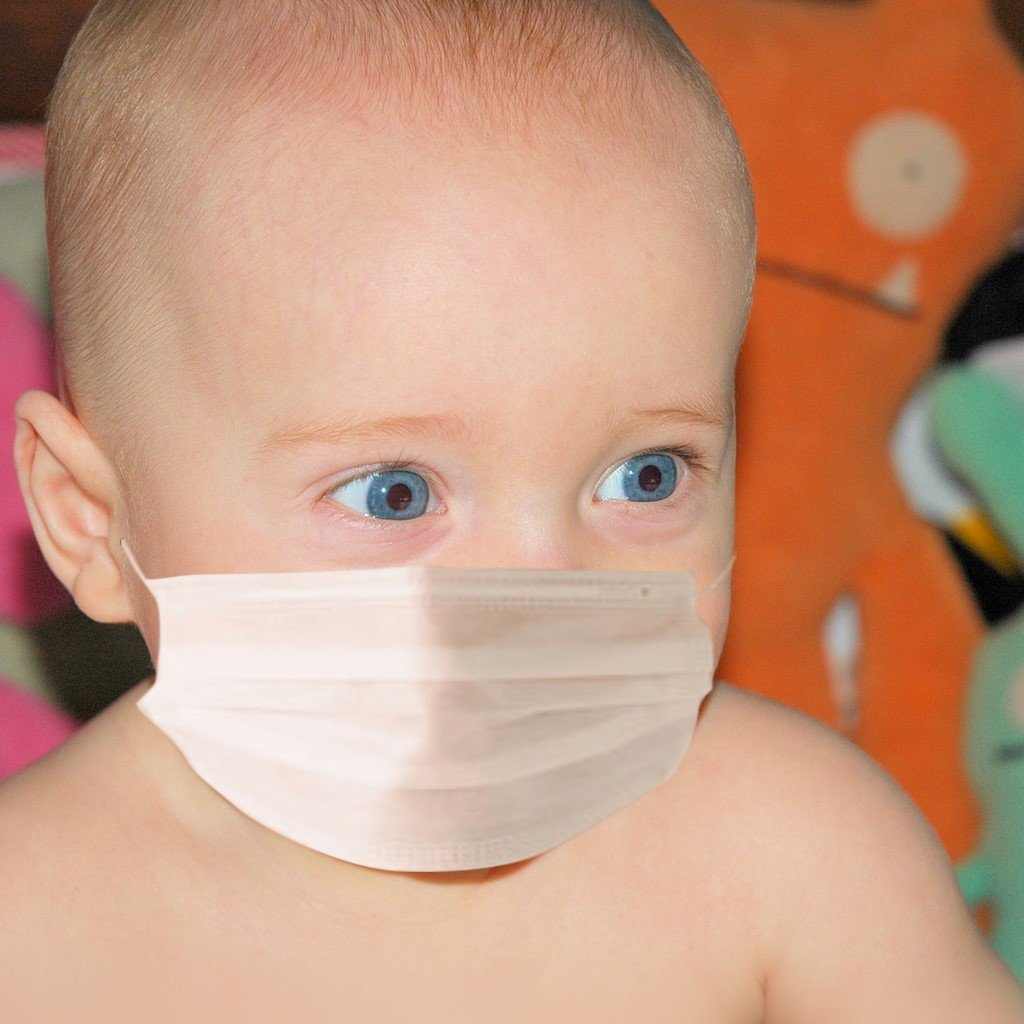con_mascara: (43, 49, 738, 852)
